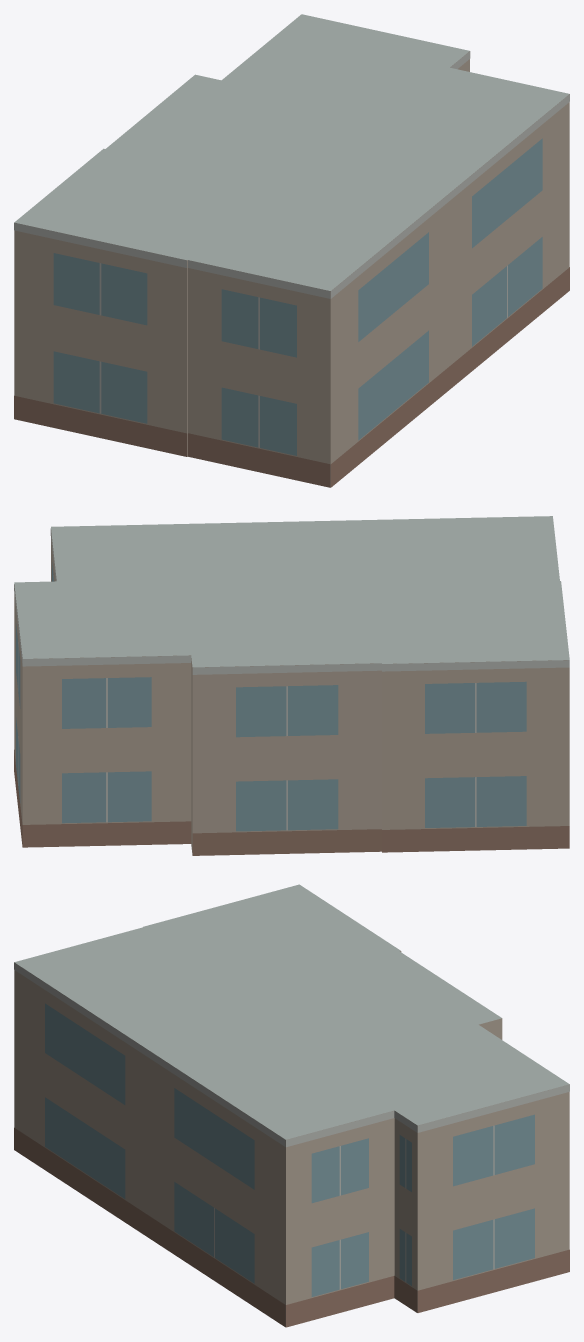
The model's file is survey-upis-32838877.glb.
3 renders of one model, top to bottom at view 1: azimuth 30°, elevation 25°; view 2: azimuth 150°, elevation 25°; view 3: azimuth 270°, elevation 25°, orthographic. The views are drawn at different scales.
Parts seen in each view (by area): view 1: survey-upis-32838877.tmp; view 2: survey-upis-32838877.tmp; view 3: survey-upis-32838877.tmp.
Part boxes in pixels (x1,y1,x2,y2): survey-upis-32838877.tmp: (14, 14, 569, 487); survey-upis-32838877.tmp: (14, 516, 569, 855); survey-upis-32838877.tmp: (14, 884, 569, 1327).
Size of the model in its own units: 17.82 by 6.1 by 16.38.
